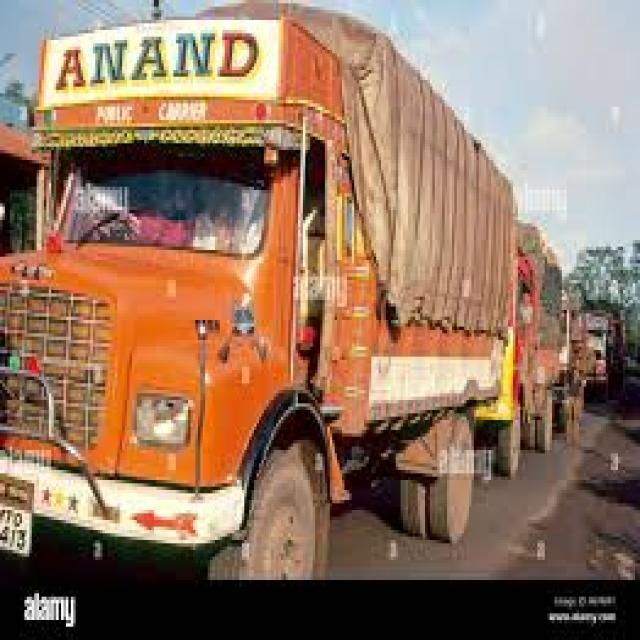covered: (0, 0, 523, 580)
